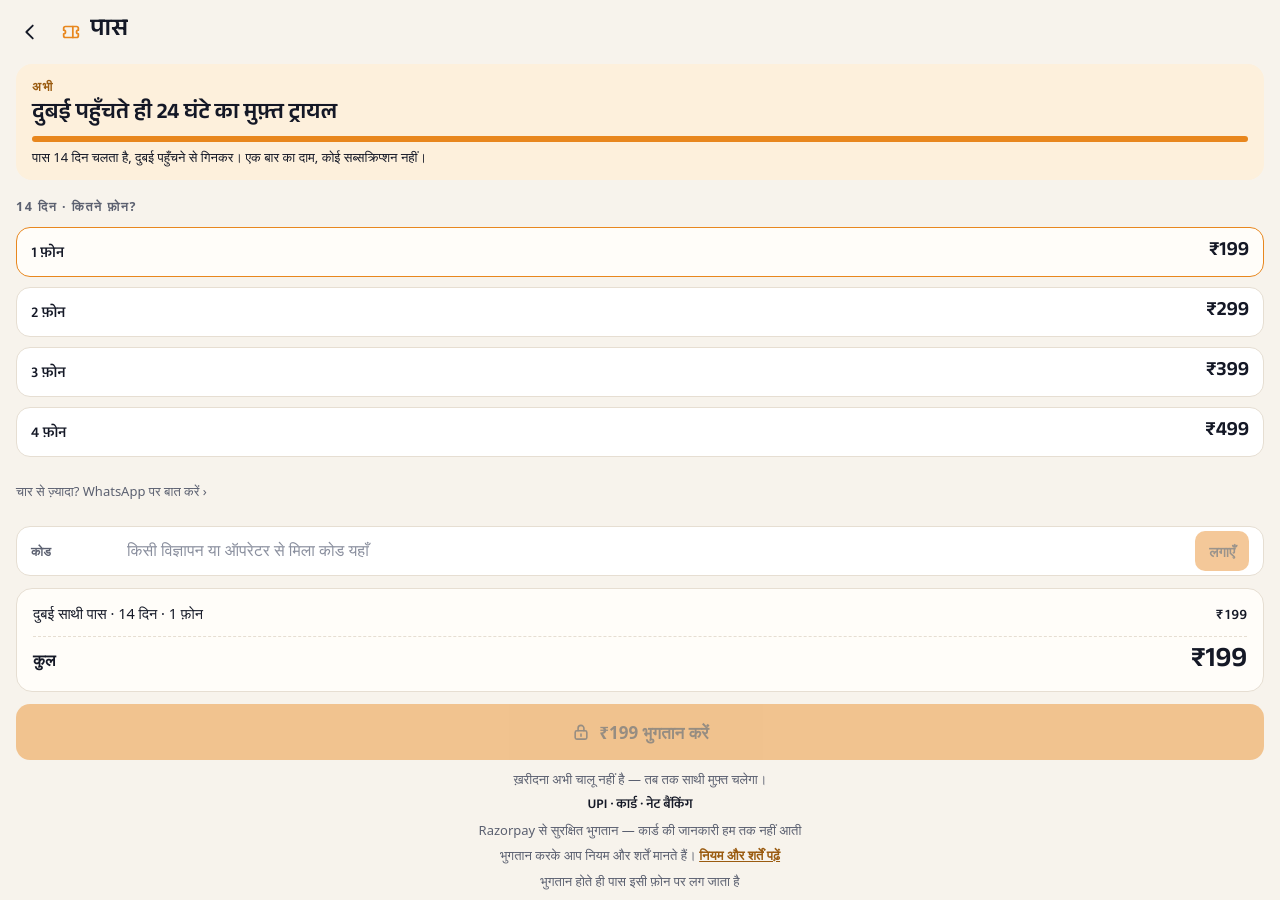
Test case: घर.4 › locks a single code to one phone and says so
Click the button "4 फ़ोन ₹499" at (49, 432), box [16,407,1264,457]
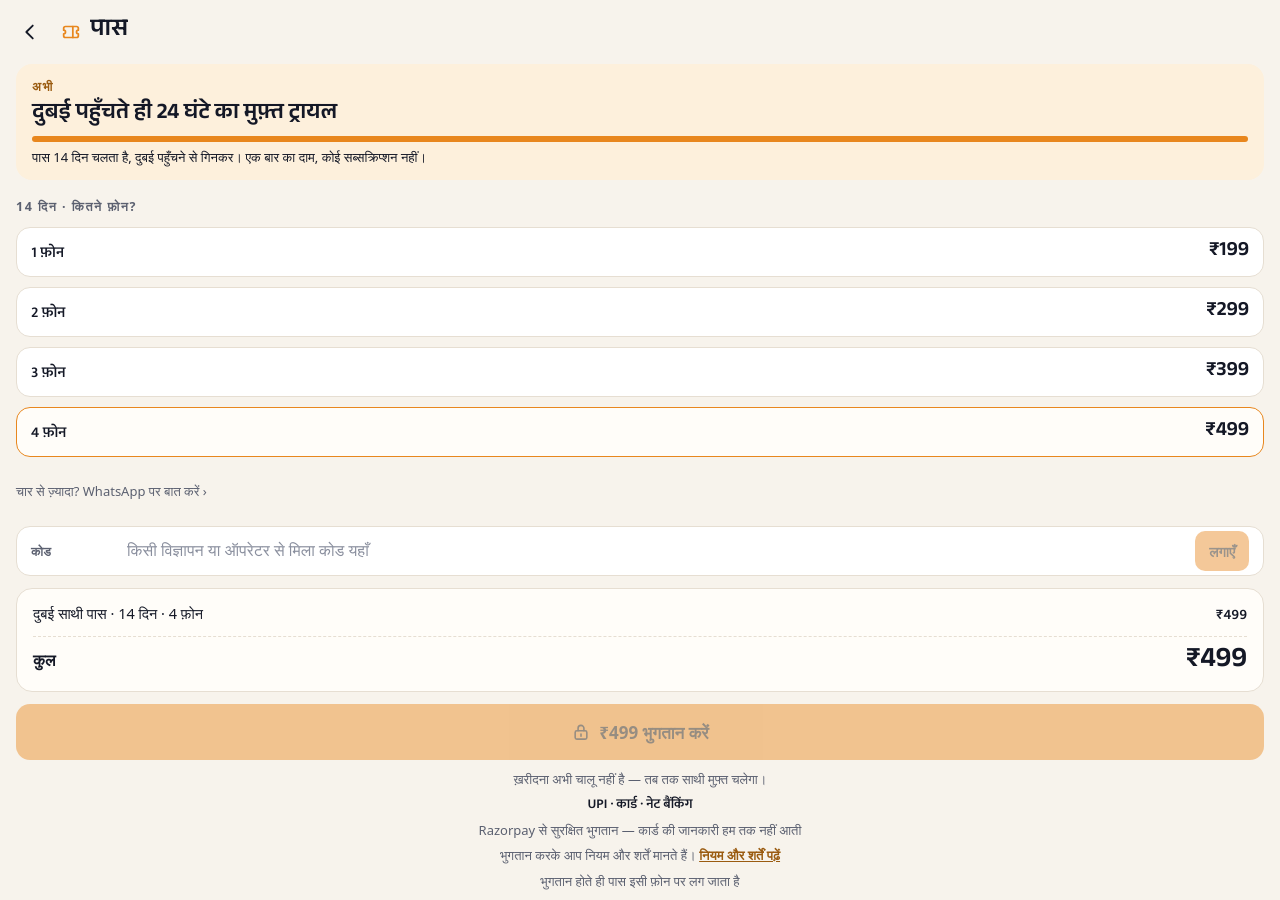
Type "OP4HXR9B" into the field labelled "कोड" at (655, 551), box [125,527,1185,575]
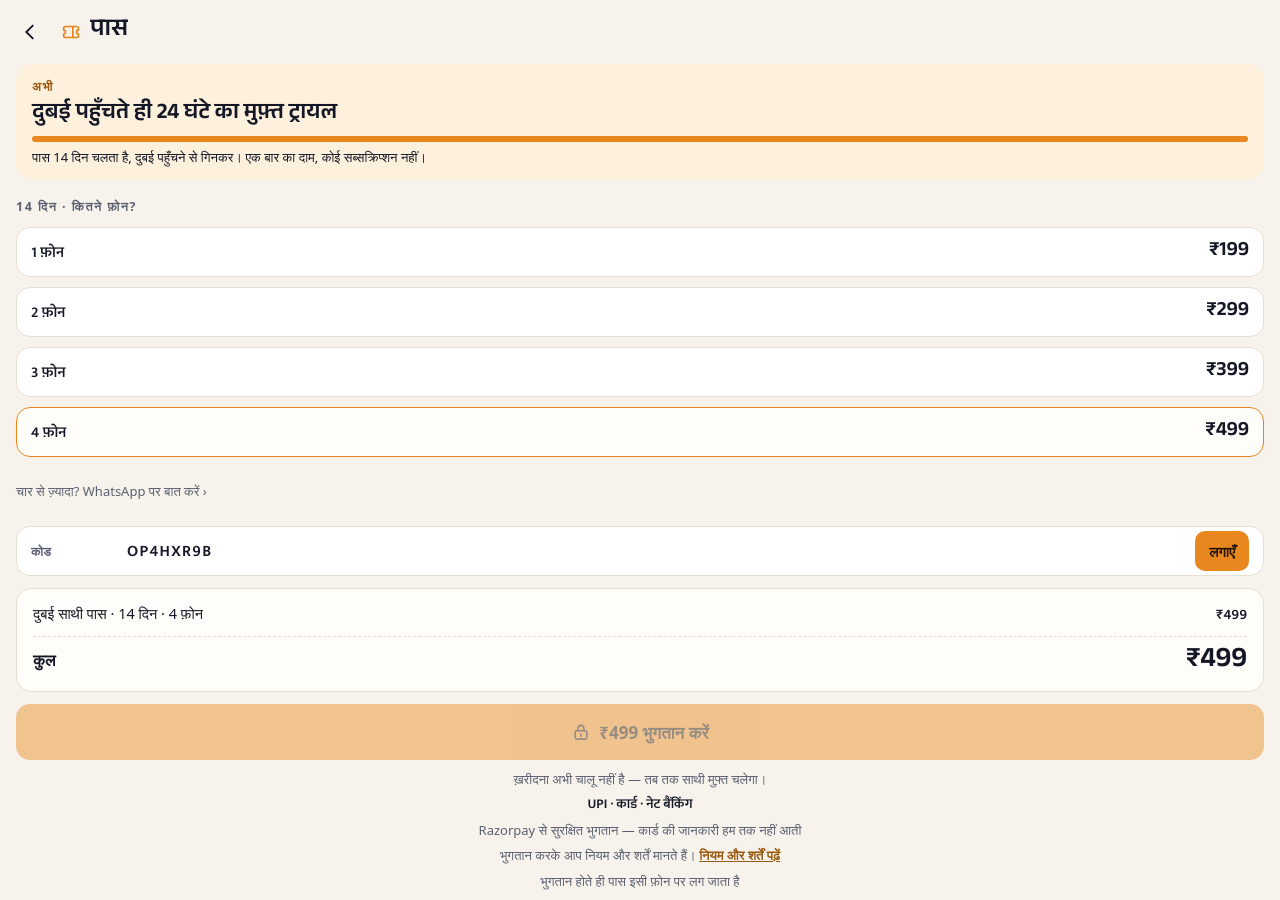
Click the button "लगाएँ" at (1222, 551), box [1195,531,1249,571]
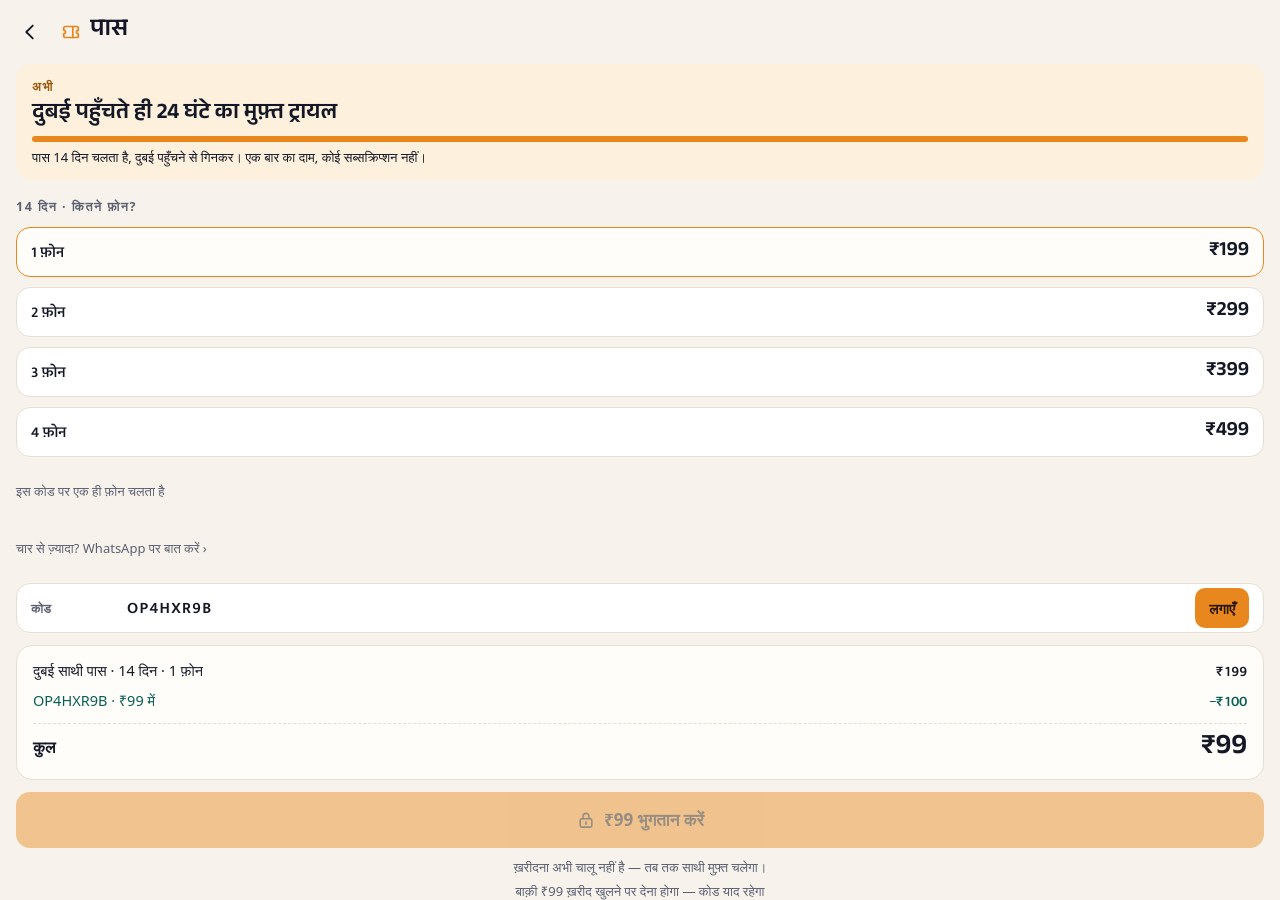
expect the text "इस कोड पर एक ही फ़ोन चलता है" is shown: met, box [16,482,164,500]
expect the text "OP4HXR9B · ₹99 में" is shown: met, box [33,690,155,711]
expect the button "4 फ़ोन ₹499" is disabled: met, box [16,407,1264,457]
